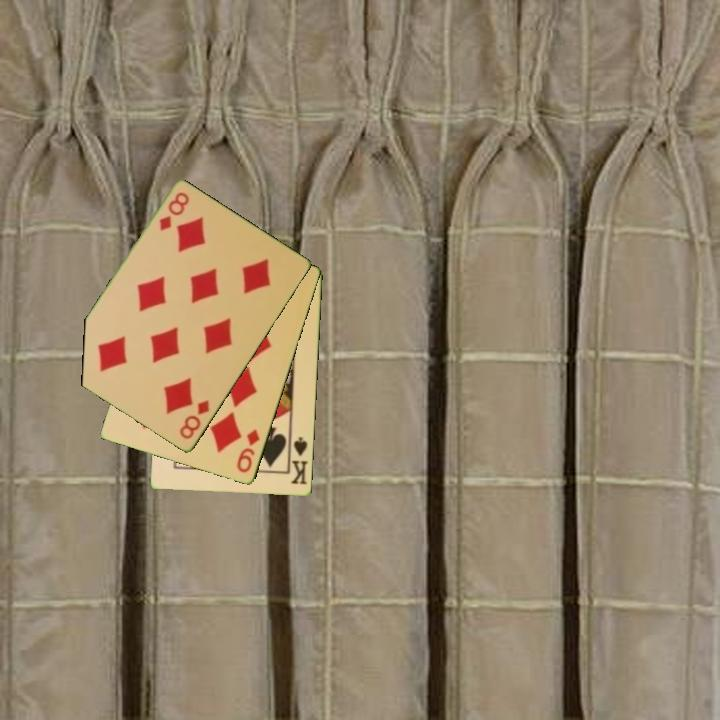8d: (176, 397, 213, 443), (156, 189, 192, 234)
9d: (233, 426, 263, 476)
Ks: (286, 433, 311, 487)
